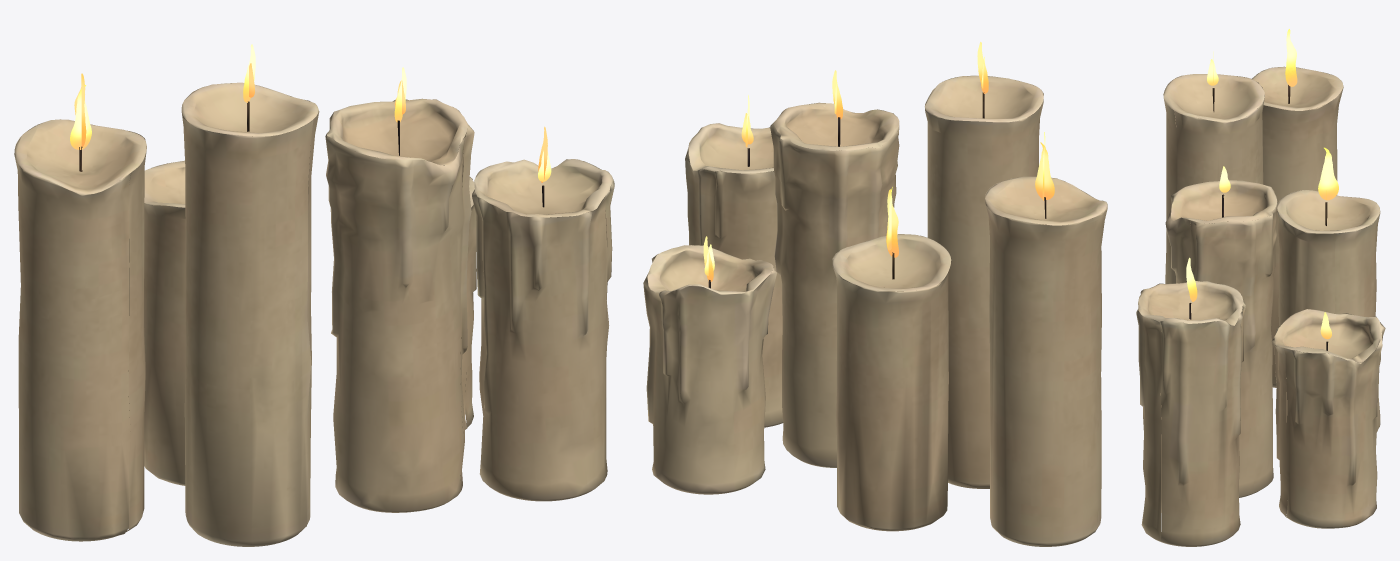
File: veladora.glb
3 renders of one model, left to right at view 1: azimuth 30°, elevation 25°; view 2: azimuth 150°, elevation 25°; view 3: azimuth 270°, elevation 25°, orthographic. The views are drawn at different scales.
Visible parts, largest first — view 1: Object_2; view 2: Object_2; view 3: Object_2.
Part boxes in pixels (x1,y1,x2,y2): Object_2: [14, 44, 614, 546]; Object_2: [643, 42, 1107, 546]; Object_2: [1136, 29, 1385, 546].
Bounding box in the file's own units: 51.95 × 48.68 × 27.92.
3 materials, 3 textured.
